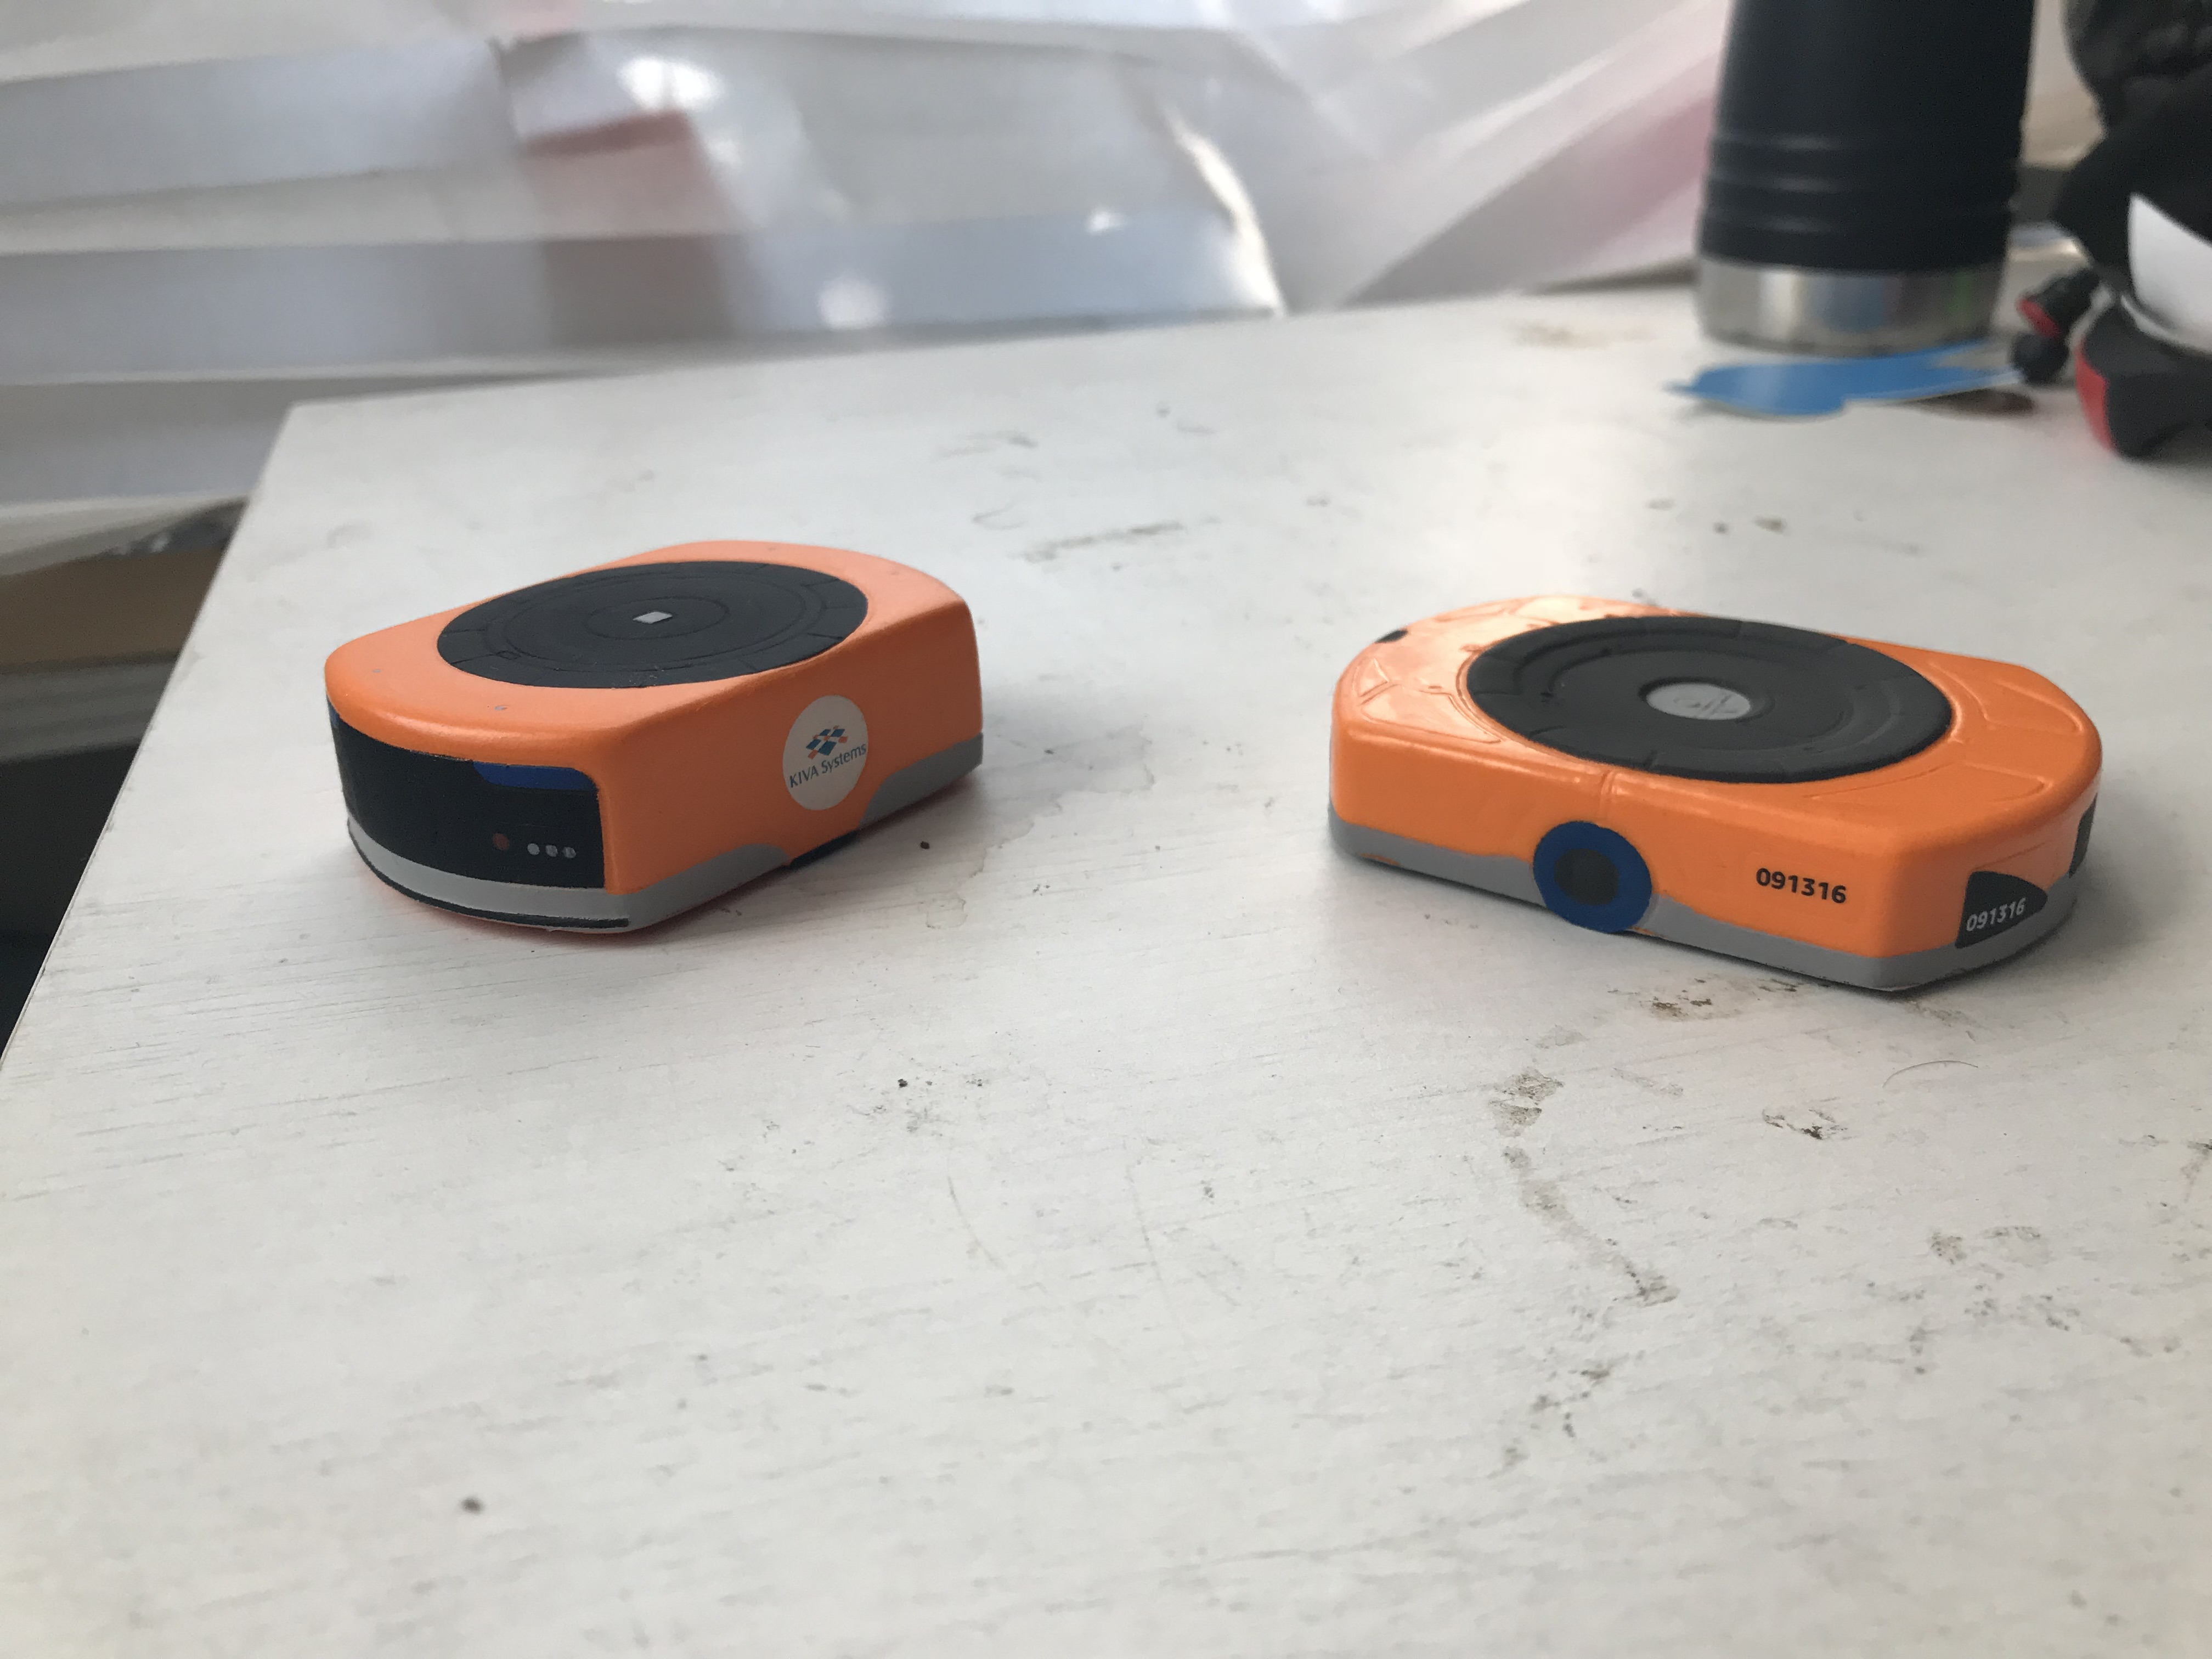amazon_bot: (1308, 579, 2118, 1012), (314, 519, 1021, 953)
